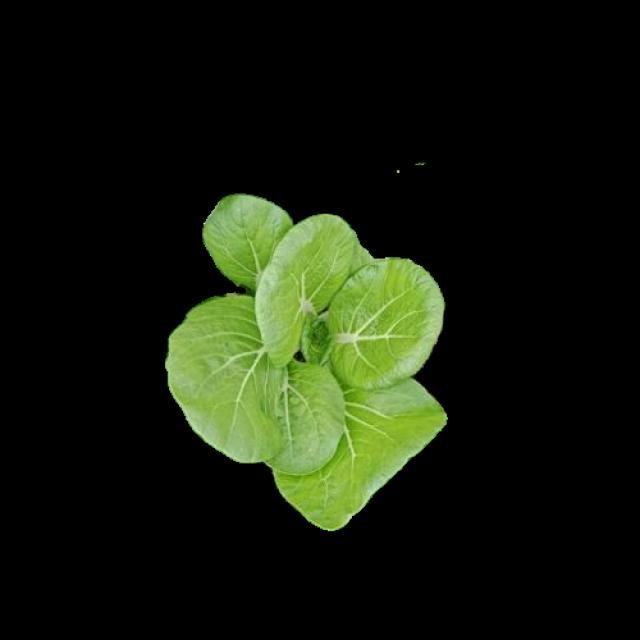healthy: (165, 190, 443, 528)
not-mature: (168, 192, 446, 531)
